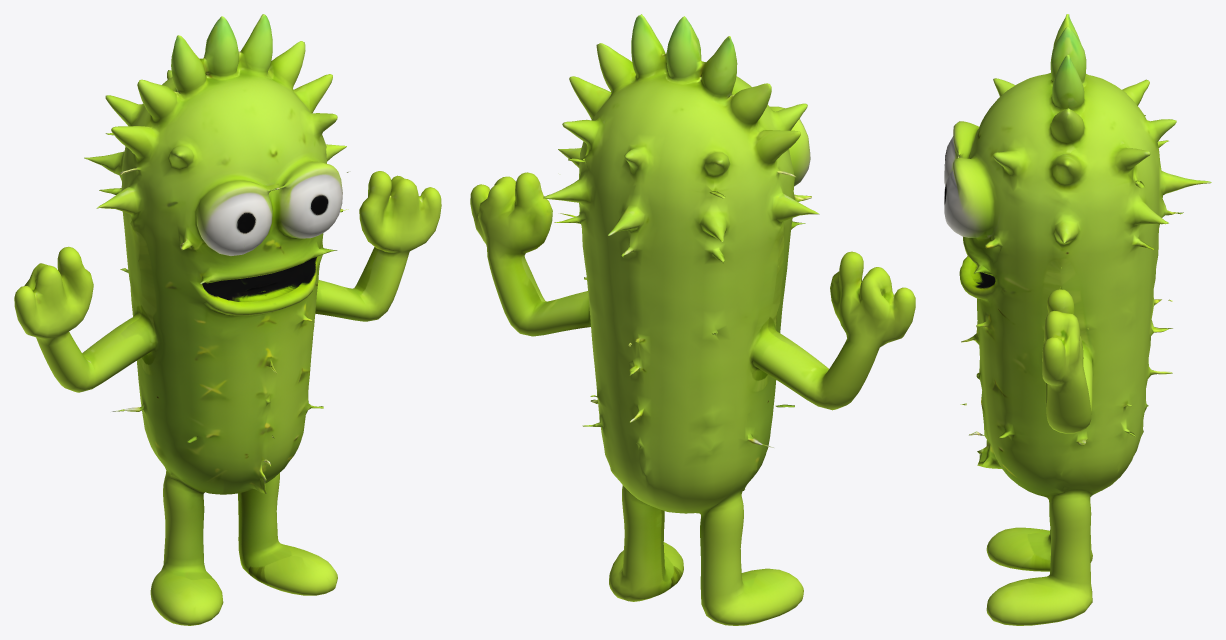
The model's file is anthropomorphic_cactus.glb.
3 views of the same model, side by side, from view 1: azimuth 30°, elevation 25°; view 2: azimuth 150°, elevation 25°; view 3: azimuth 270°, elevation 25° (orthographic). The views are drawn at different scales.
Visible parts, largest first — view 1: Object_2; view 2: Object_2; view 3: Object_2.
Part boxes in pixels (x1=…): Object_2: x1=14, y1=14, x2=441, y2=625; Object_2: x1=470, y1=14, x2=915, y2=625; Object_2: x1=944, y1=14, x2=1211, y2=625.
Bounding box in the file's own units: 1.48 × 1.89 × 0.8152.
1 material, 1 textured.
